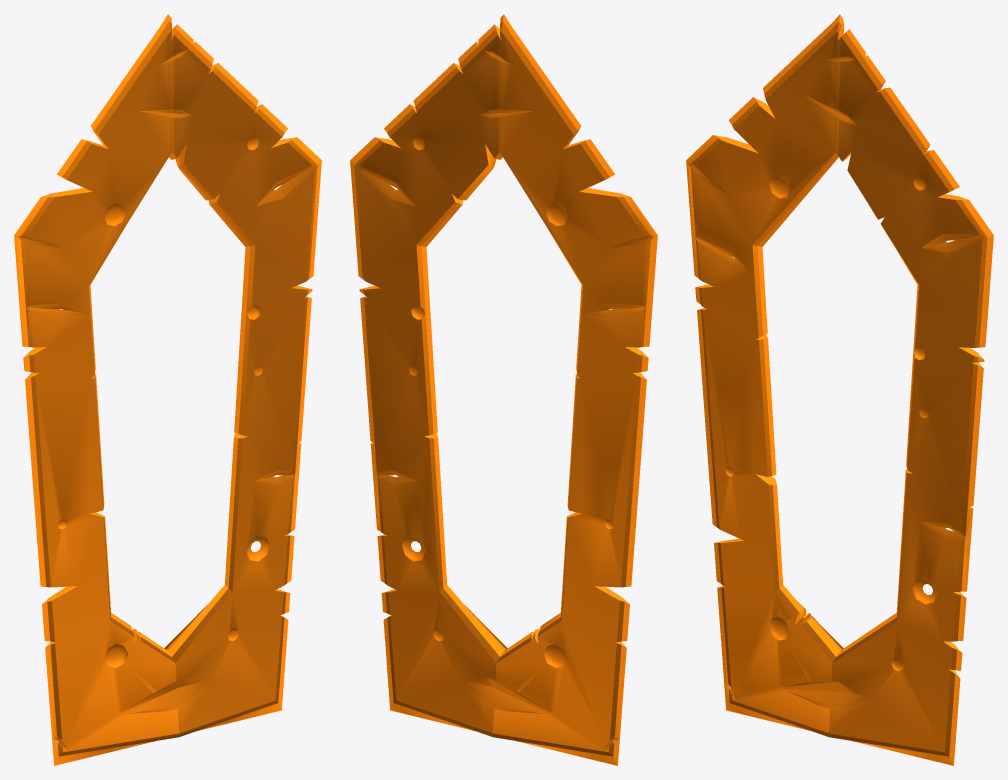
The model's file is bronze_blade_bubbles_026.glb.
3 renders of one model, left to right at view 1: azimuth 30°, elevation 25°; view 2: azimuth 150°, elevation 25°; view 3: azimuth 330°, elevation 25°, orthographic.
Visible parts, largest first — view 1: bronze_blade_bubbles.026; view 2: bronze_blade_bubbles.026; view 3: bronze_blade_bubbles.026.
Boxes of the visible parts, x1=… form: bronze_blade_bubbles.026: x1=14, y1=14, x2=321, y2=765; bronze_blade_bubbles.026: x1=350, y1=14, x2=657, y2=765; bronze_blade_bubbles.026: x1=686, y1=14, x2=993, y2=765.
Size of the model in its own units: 5.08 by 11.42 by 0.6326.
Materials: 1 (1 with a texture image).
